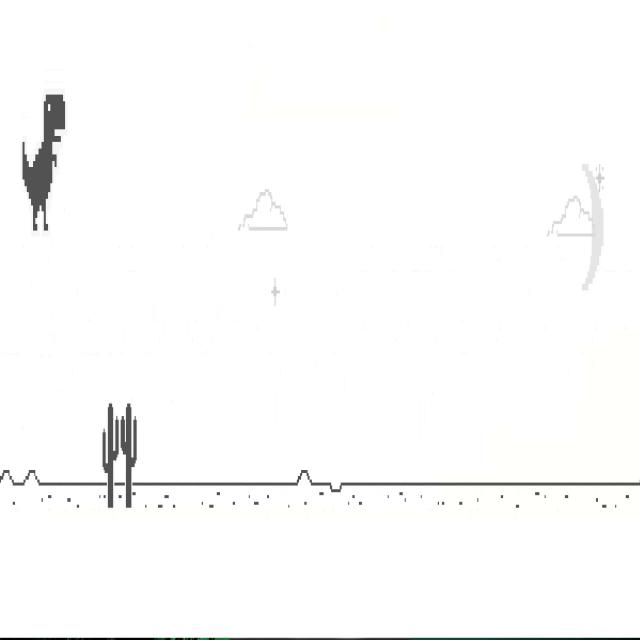cacto: (102, 403, 119, 508), (120, 403, 137, 508)
dino: (23, 93, 66, 231)
